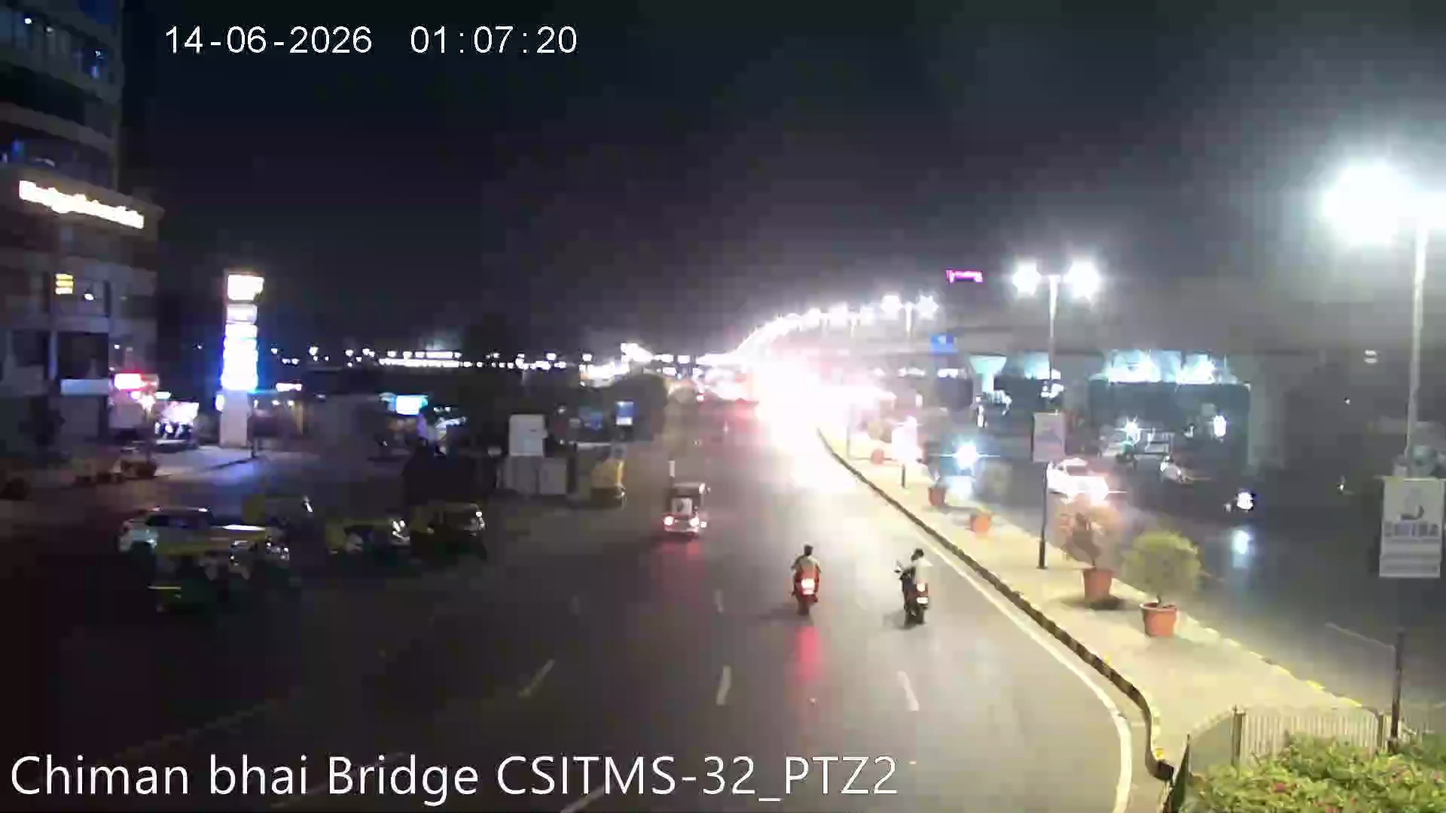auto_rickshaw: (131, 529, 261, 621), (399, 493, 493, 565), (320, 510, 416, 572), (658, 478, 711, 542)
car: (1043, 453, 1112, 504), (1156, 450, 1195, 488)
two_wheeler: (890, 546, 937, 632), (786, 538, 826, 616), (1221, 479, 1263, 531)
